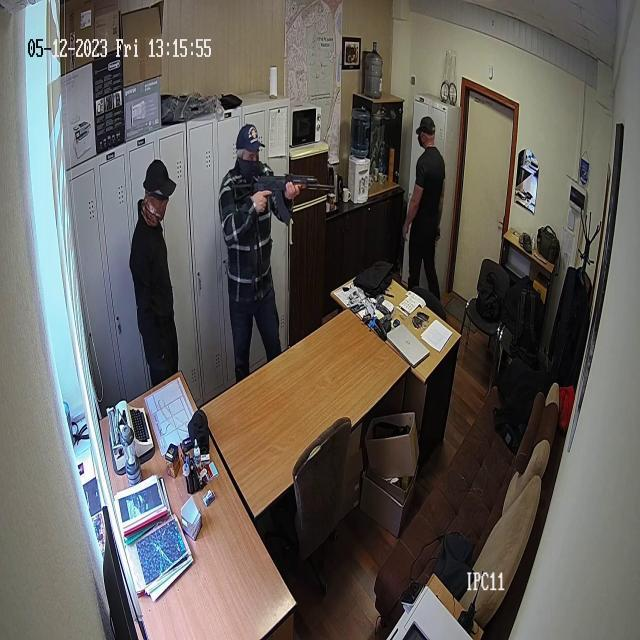pistol: (234, 176, 336, 221)
